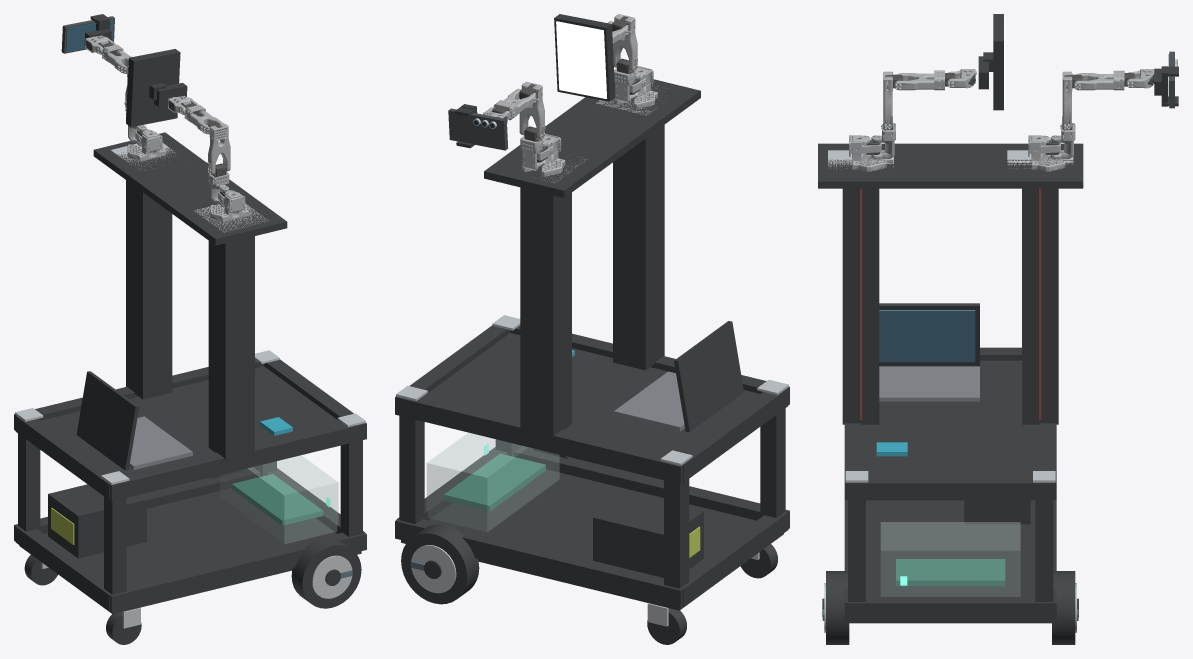
File: take-one-panel.glb
3 views of the same model, side by side, from view 1: azimuth 30°, elevation 25°; view 2: azimuth 150°, elevation 25°; view 3: azimuth 270°, elevation 25° (orthographic). The views are drawn at different scales.
Parts seen in each view (by area): view 1: cart_box, upright_rear, upright_front, cart_work_deck, cart_deck, electronics_box, frame_side_0.25_0.49, frame_side_0.25_0.15, battery, laptop_lid, light_payload, frame_end_-0.39_0.15 (+20 smaller); view 2: upright_front, cart_work_deck, upright_rear, cart_box, cart_deck, electronics_box, frame_side_-0.25_0.49, frame_side_-0.25_0.15, battery, laptop_lid, frame_side_0.25_0.15, light_emitter (+20 smaller); view 3: cart_work_deck, cart_box, electronics_box, cart_deck, upright_rear, upright_front, laptop_screen, frame_end_0.39_0.15, frame_end_0.39_0.49, laptop_keyboard, electronics_board, corner_leg_-0.24_0.38 (+17 smaller).
Boxes of the visible parts, x1,y1,x2,y2 form: cart_box: (19,488,361,614); upright_rear: (208,236,254,459); upright_front: (126,180,172,399); cart_work_deck: (40,366,340,474); cart_deck: (93,132,287,245); electronics_box: (220,455,338,543); frame_side_0.25_0.49: (104,422,366,501); frame_side_0.25_0.15: (109,531,366,611); battery: (48,484,146,558); laptop_lid: (76,371,139,470); light_payload: (126,49,180,126); frame_end_-0.39_0.15: (15,526,111,610); upright_front: (520,187,571,437); cart_work_deck: (425,333,759,454); upright_rear: (613,125,664,370); cart_box: (401,469,783,610); cart_deck: (484,79,700,197); electronics_box: (427,433,559,531); frame_side_-0.25_0.49: (395,395,688,484); frame_side_-0.25_0.15: (395,518,688,607); battery: (593,492,703,577); laptop_lid: (674,321,743,431); frame_side_0.25_0.15: (514,445,789,528); light_emitter: (556,21,606,98); cart_work_deck: (861,360,1039,475); cart_box: (849,500,1051,623); electronics_box: (881,522,1020,596); cart_deck: (818,143,1083,188); upright_rear: (842,188,879,424); upright_front: (1022,188,1058,424); laptop_screen: (879,310,975,362); frame_end_0.39_0.15: (849,596,1051,620); frame_end_0.39_0.49: (849,476,1051,500); laptop_keyboard: (879,366,979,401); electronics_board: (896,559,1005,586); corner_leg_-0.24_0.38: (1035,500,1053,601).
Bounding box in the file's own units: 0.824 × 1.6 × 0.9254.
